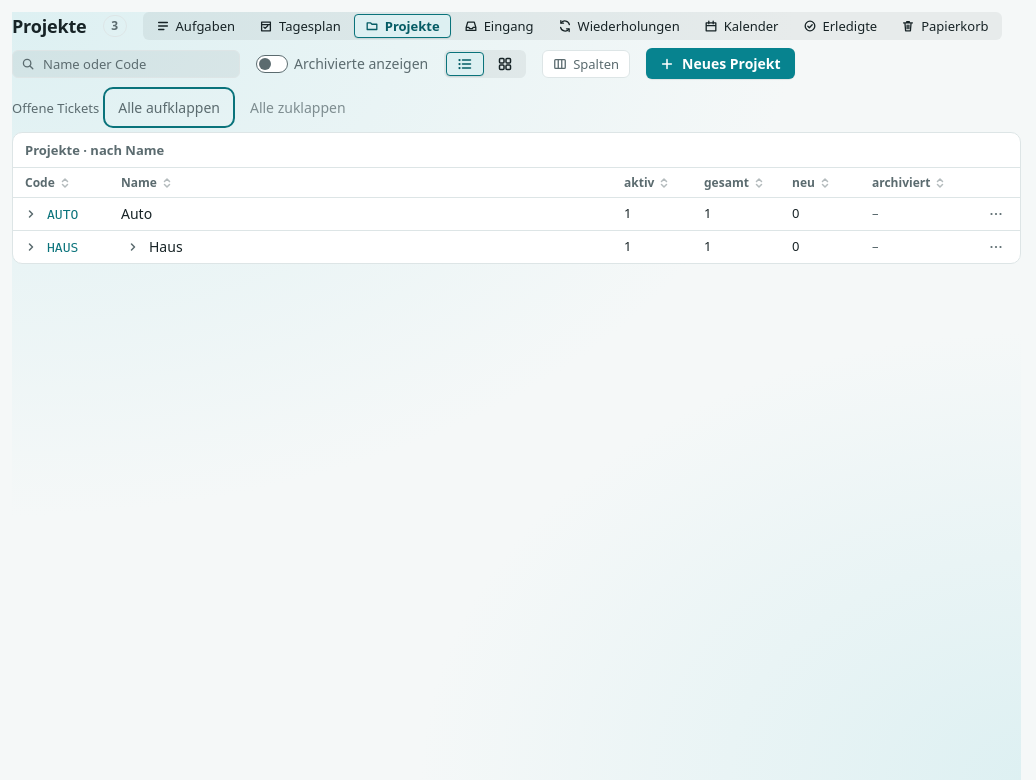
Test: open tickets in the project list › opens and closes all rows above the list; the focus stays on the button
The width and height of the screenshot is (1036, 780).
Step 1. Click the button "Alle aufklappen" → (169, 108), box [107,91,231,124]
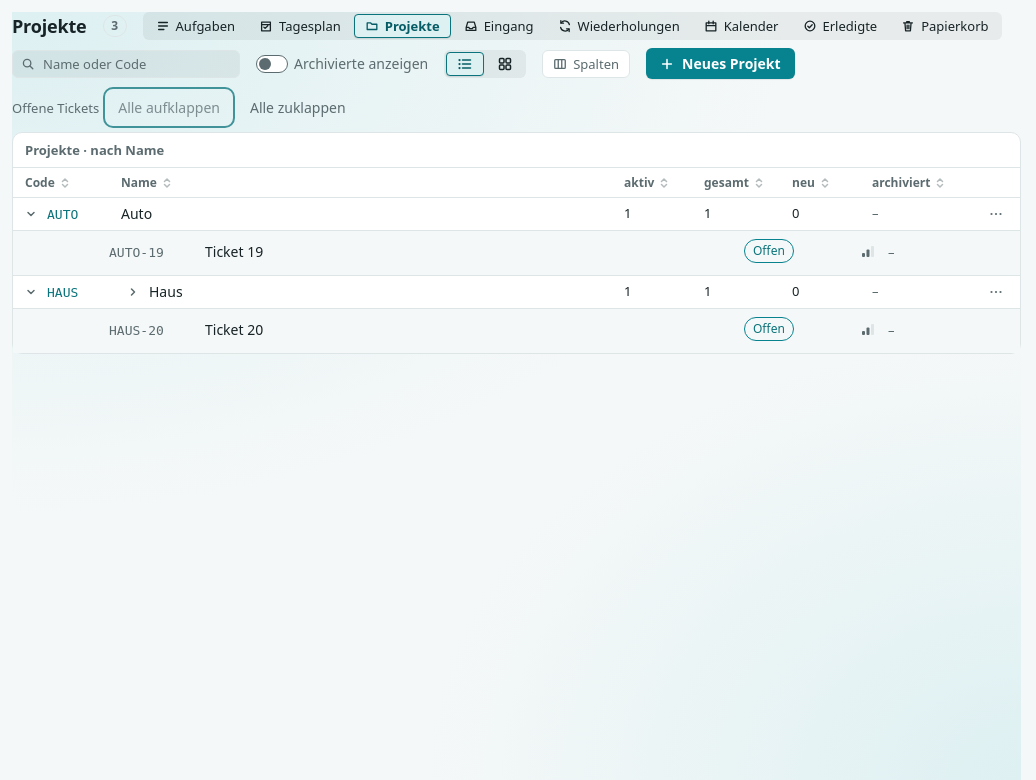
Now the button named "Offene Tickets von „Auto“" is expanded, box [19,202,43,226]
Now the button named "Offene Tickets von „Haus“" is expanded, box [19,280,43,304]
The folded sub project opened as well: it shows its tickets once unfolded.
Step 2. Click the button named "Unterprojekte von Haus" → (133, 292), box [121,280,145,304]
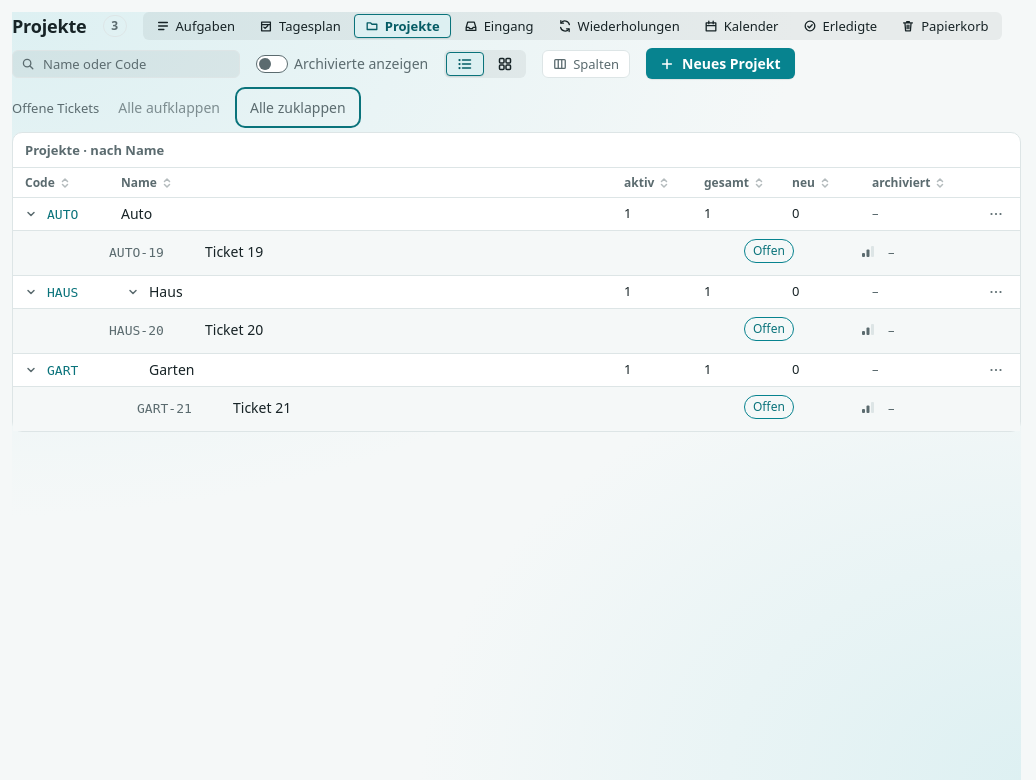
Step 3. Click the button "Alle zuklappen" → (298, 108), box [239,91,357,124]
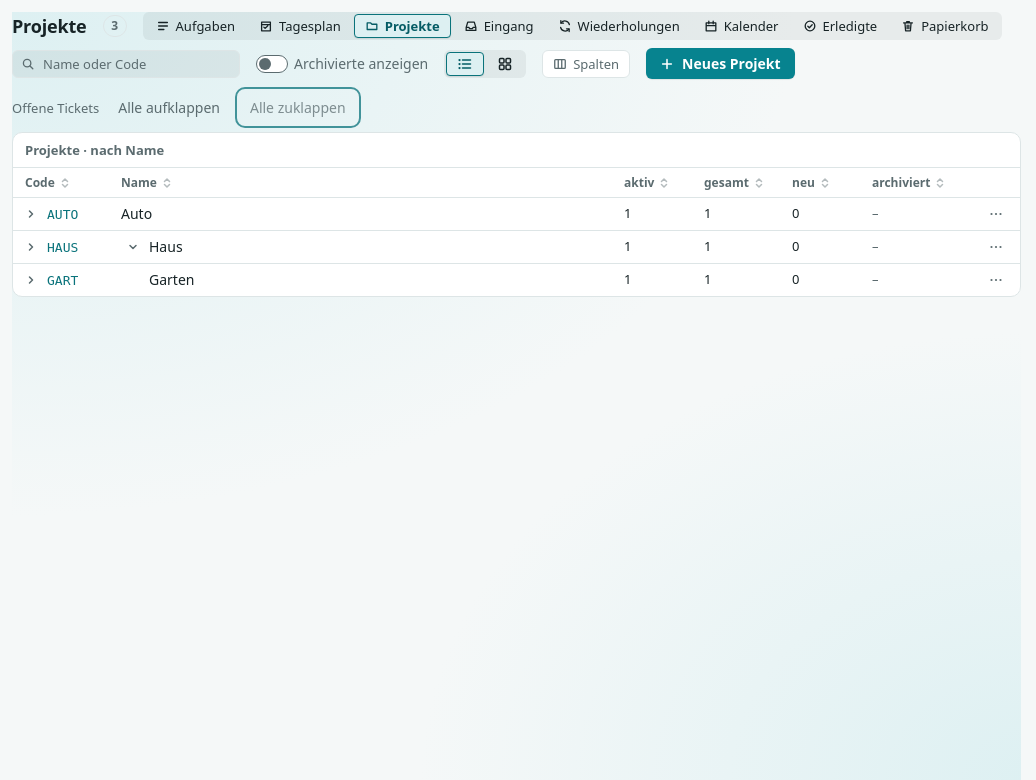
Now the list is gone
